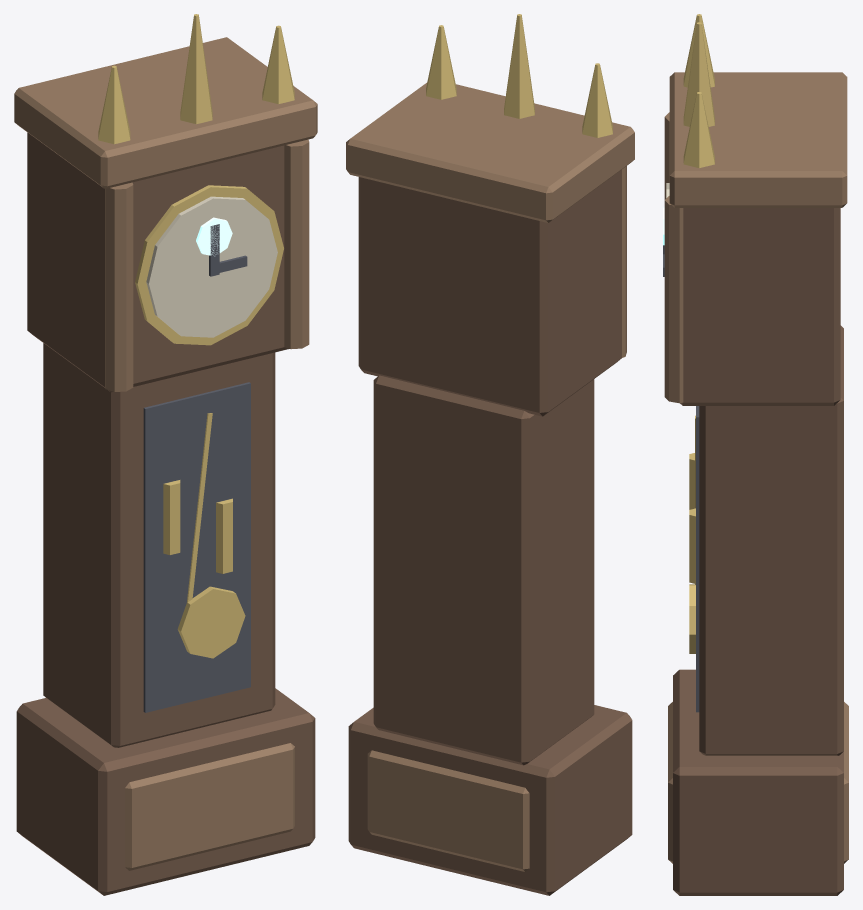
Rendered from castle_clock.glb.
3 renders of one model, left to right at view 1: azimuth 30°, elevation 25°; view 2: azimuth 150°, elevation 25°; view 3: azimuth 270°, elevation 25°, orthographic. The views are drawn at different scales.
Visible parts, largest first — view 1: Castle_GrandfatherClock; view 2: Castle_GrandfatherClock; view 3: Castle_GrandfatherClock.
Boxes of the visible parts, box(x1,y1,x2,y2) form: Castle_GrandfatherClock: box(14, 14, 317, 895); Castle_GrandfatherClock: box(346, 14, 634, 895); Castle_GrandfatherClock: box(663, 14, 848, 895).
Bounding box in the file's own units: 0.9472 × 3.54 × 0.7232.
